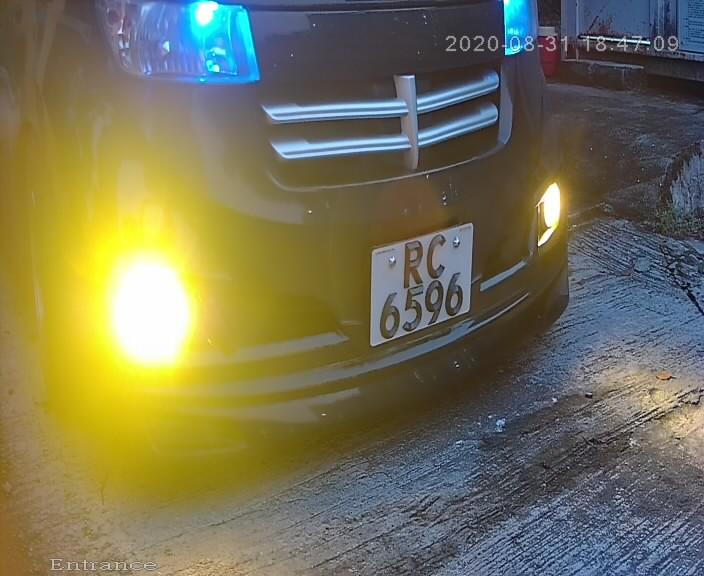License Plate: (359, 219, 478, 350)
